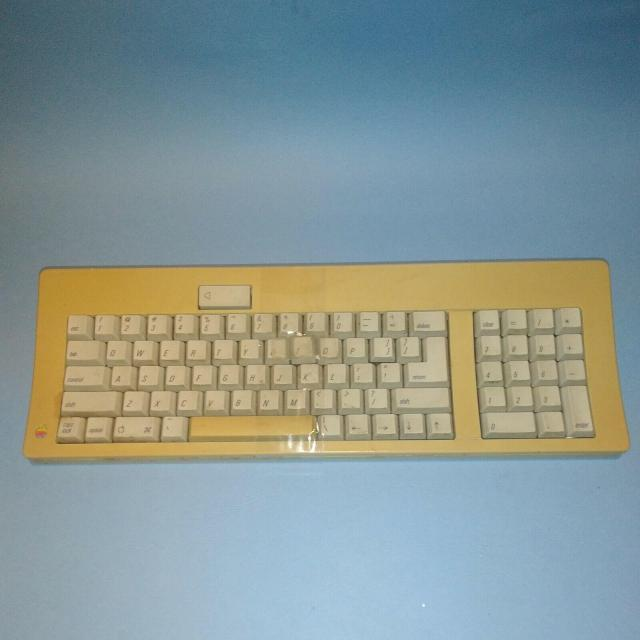keyboard: (14, 257, 634, 460)
